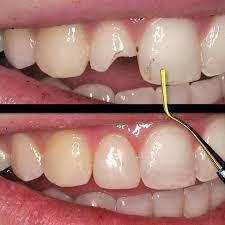Fractured Teeth: (90, 23, 136, 74)
